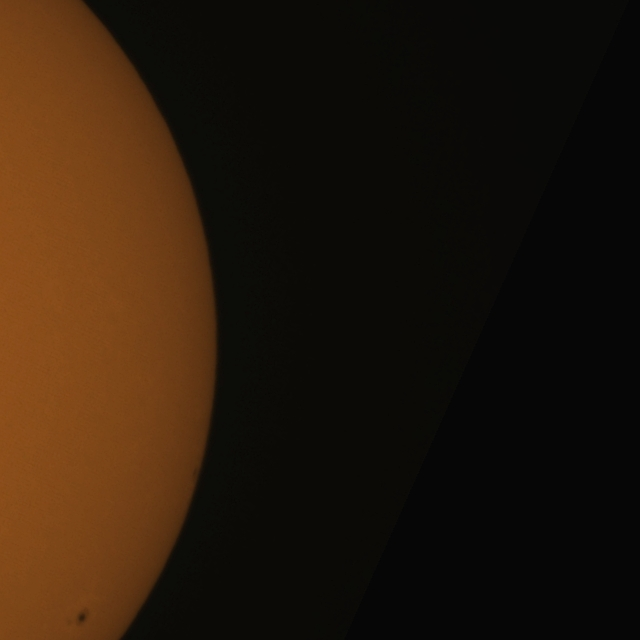sunspot: (66, 608, 90, 628)
